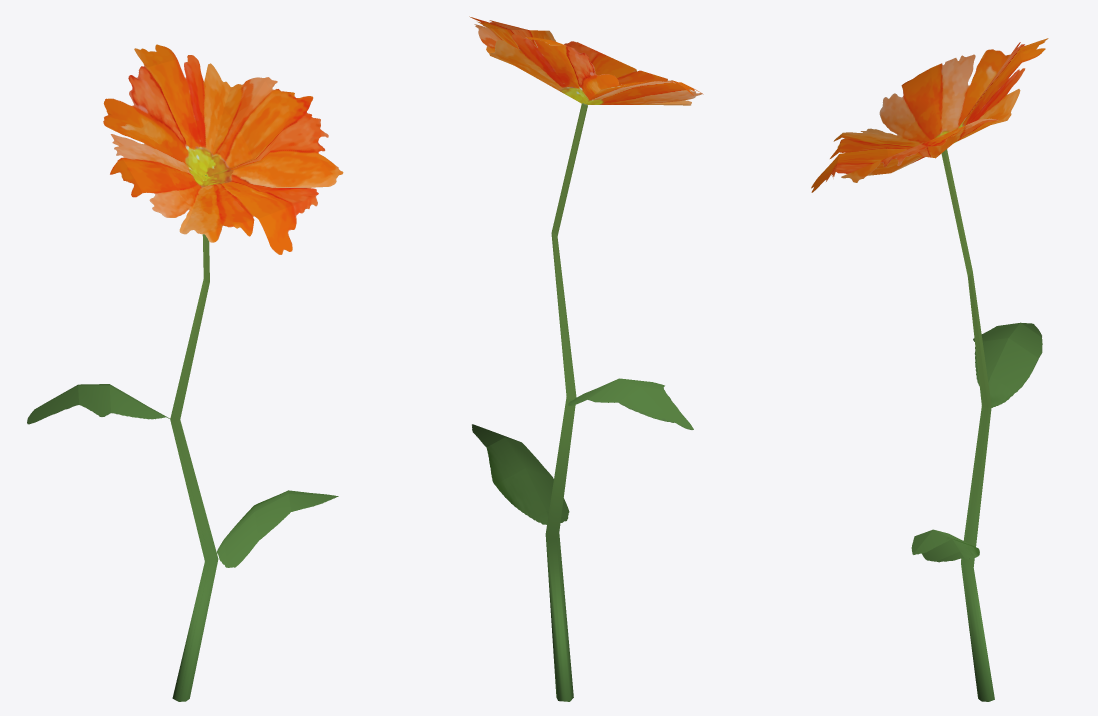
The model's file is FlowerF.fbx.
3 renders of one model, left to right at view 1: azimuth 30°, elevation 25°; view 2: azimuth 150°, elevation 25°; view 3: azimuth 270°, elevation 25°, orthographic. The views are drawn at different scales.
Parts seen in each view (by area): view 1: FlowerFLOD0; view 2: FlowerFLOD0; view 3: FlowerFLOD0.
Part boxes in pixels (x1,y1,x2,y2): FlowerFLOD0: (27, 44, 343, 701); FlowerFLOD0: (469, 16, 703, 701); FlowerFLOD0: (811, 38, 1048, 701).
Size of what is drawn, in the model's own units: 34.5 by 70.58 by 26.96.
